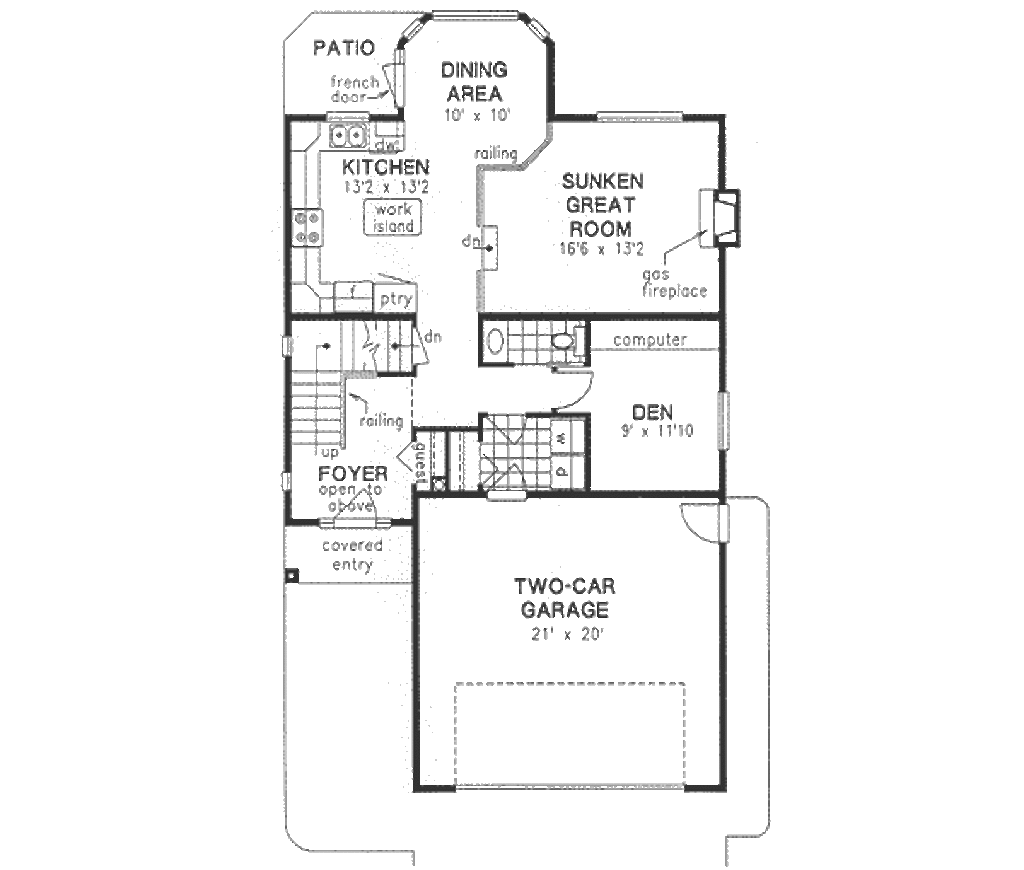door: (324, 478, 397, 531), (676, 490, 737, 553), (539, 366, 600, 412), (476, 404, 535, 448), (374, 57, 414, 107)
large_sink: (534, 315, 605, 367)
small_sink: (483, 321, 505, 363)
stairs: (289, 320, 425, 469)
twin_sink: (324, 112, 377, 157)
window: (380, 6, 568, 45), (591, 100, 689, 132), (709, 382, 743, 456)
